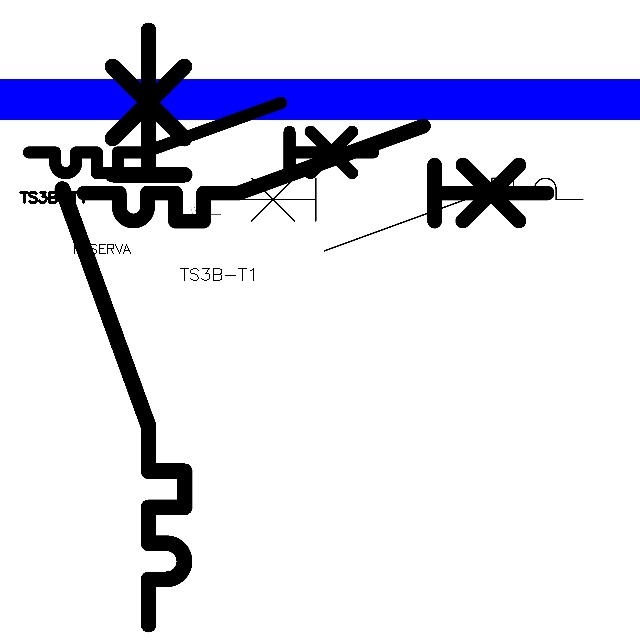interruptor_termomagnetico: (47, 15, 200, 640), (72, 114, 559, 233), (220, 169, 591, 260), (20, 94, 382, 182)
